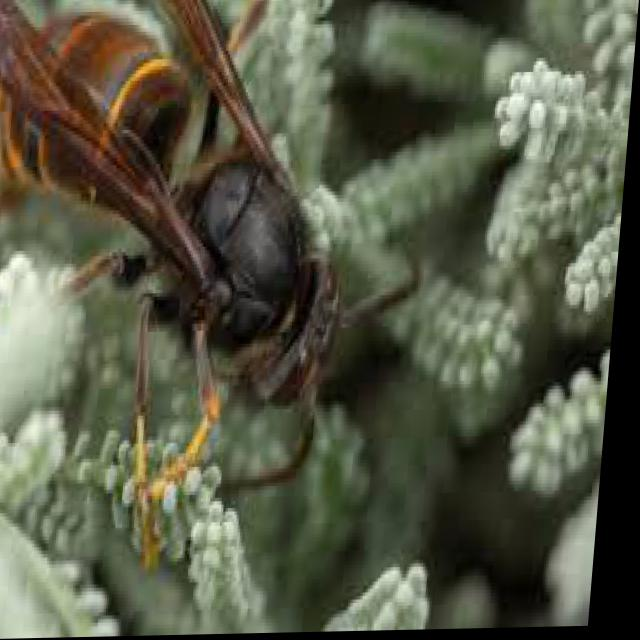Vespa Velutina: (0, 0, 447, 589)
